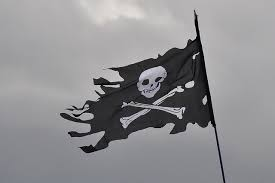Jolly Roger Flag: (60, 34, 227, 157)
